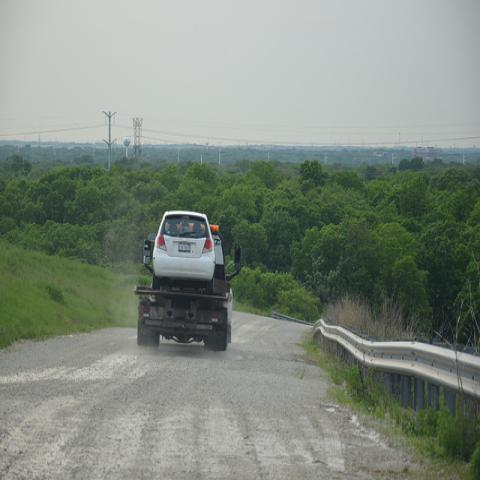truck: (132, 208, 242, 350)
